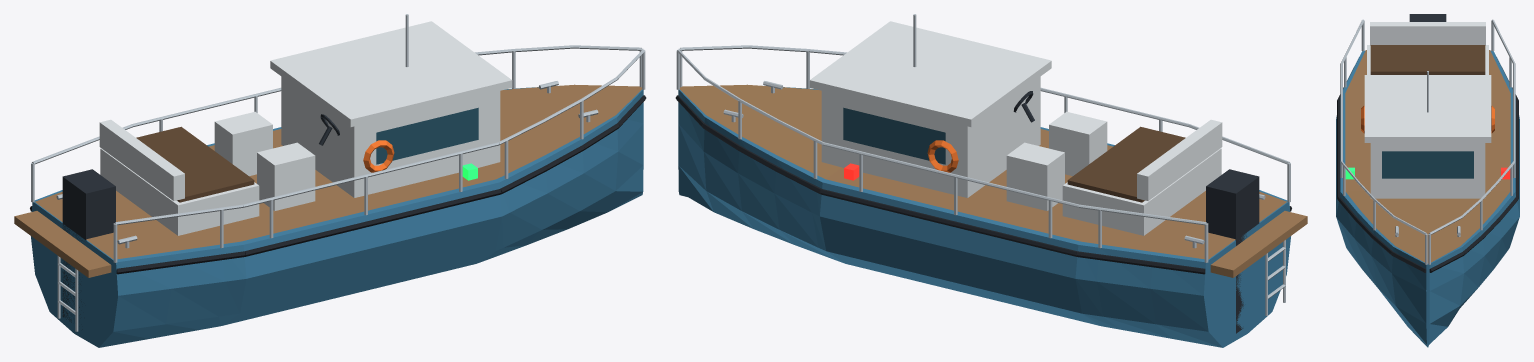
Rendered from motorboat_lod1.glb.
3 renders of one model, left to right at view 1: azimuth 30°, elevation 25°; view 2: azimuth 150°, elevation 25°; view 3: azimuth 270°, elevation 25°, orthographic. The views are drawn at different scales.
Parts seen in each view (by area): view 1: body; view 2: body; view 3: body.
Part boxes in pixels (x1=…): body: x1=14, y1=14, x2=646, y2=347; body: x1=675, y1=14, x2=1307, y2=347; body: x1=1336, y1=14, x2=1519, y2=347.
Bounding box in the file's own units: 7.3 × 2.8 × 2.5.
